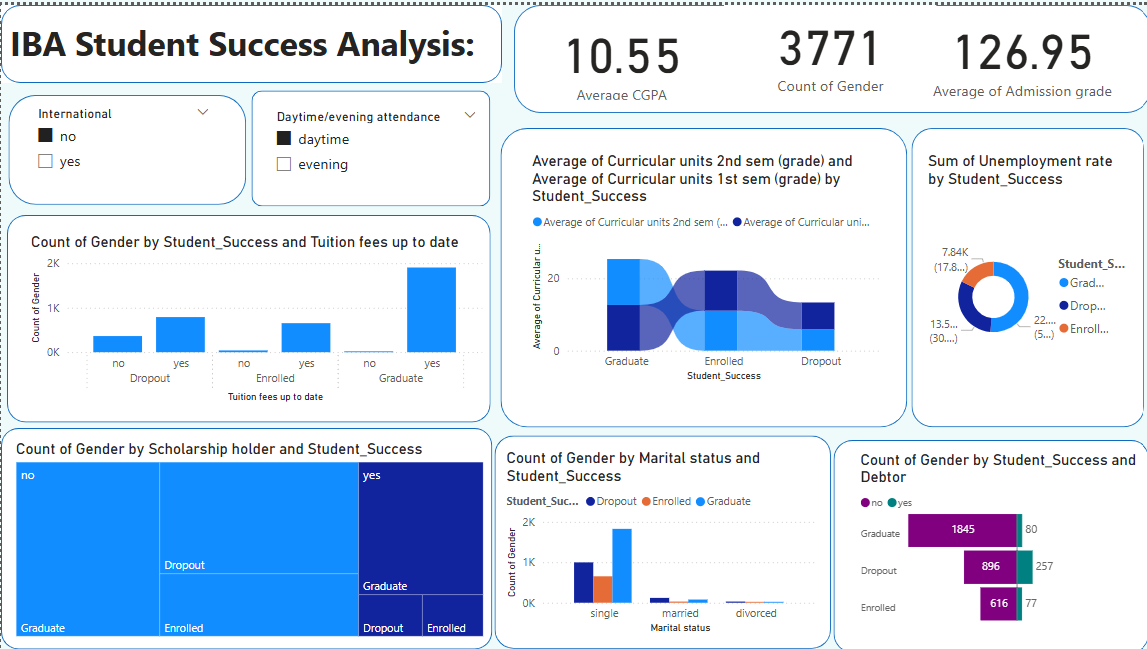

This screenshot's page, from the dashboard's own definition file:
{"tool":"powerbi","page":{"name":"Page 1","canvas":[1280,720],"ordinal":1},"visuals":[{"type":"shape","box":[0,0,556.5,87],"z":0},{"type":"shape","box":[6.4,233.8,537.6,230.6],"z":1000},{"type":"shape","box":[570,0,710,120],"z":2000},{"type":"shape","box":[0,469.2,546.2,246.2],"z":3000},{"type":"shape","box":[8,100,264,122],"z":4000},{"type":"card","fields":{"Values":["CountNonNull(updated_enrollment_data (2).Gender)"]},"box":[804,0,236,102],"z":5000},{"type":"card","fields":{"Values":["updated_enrollment_data (2).Average CGPA"]},"box":[584,10,212,100],"z":6000},{"type":"treemap","fields":{"Group":["updated_enrollment_data (2).Scholarship holder"],"Details":["updated_enrollment_data (2).Student_Success"],"Values":["CountNonNull(updated_enrollment_data (2).Gender)"]},"box":[11.5,482.7,528.8,223.1],"z":7000},{"type":"clusteredColumnChart","fields":{"Category":["updated_enrollment_data (2).Student_Success","updated_enrollment_data (2).Tuition fees up to date"],"Y":["CountNonNull(updated_enrollment_data (2).Gender)"]},"box":[28.8,253.8,511.5,192.3],"z":8000},{"type":"textbox","box":[4.3,10.9,537,60.9],"z":9000},{"type":"card","fields":{"Values":["Avg(updated_enrollment_data (2).Admission grade)"]},"box":[1011.5,3.8,246.2,105.8],"z":10000},{"type":"slicer","fields":{"Values":["updated_enrollment_data (2).International"]},"box":[28.6,106.6,214.7,100.2],"z":11000},{"type":"shape","box":[278.4,95.4,265.6,128.8],"z":12000},{"type":"slicer","fields":{"Values":["updated_enrollment_data (2).Daytime/evening attendance"]},"box":[292.7,109.8,246.5,100.2],"z":13000},{"type":"shape","box":[548.8,478.8,373.8,237],"z":14000},{"type":"shape","box":[925,482.7,351.9,236.5],"z":15000},{"type":"shape","box":[1011.6,136.8,259.3,332.4],"z":16000},{"type":"shape","box":[555.8,136.5,451.9,332.7],"z":17000},{"type":"donutChart","fields":{"Y":["Sum(updated_enrollment_data (2).Unemployment rate)"],"Category":["updated_enrollment_data (2).Student_Success"]},"box":[1025,163.5,232.7,282.7],"z":18000},{"type":"clusteredColumnChart","fields":{"Series":["updated_enrollment_data (2).Student_Success"],"Category":["updated_enrollment_data (2).Marital status"],"Y":["CountNonNull(updated_enrollment_data (2).Gender)"]},"box":[556.7,493.1,354.7,210],"z":19000},{"type":"ribbonChart","fields":{"Category":["updated_enrollment_data (2).Student_Success"],"Y":["Avg(updated_enrollment_data (2).Curricular units 2nd sem (grade))","Avg(updated_enrollment_data (2).Curricular units 1st sem (grade))"]},"box":[584.2,163.2,396.5,259.6],"z":20000},{"type":"TornadoChart1452517688218","fields":{"Category":["updated_enrollment_data (2).Student_Success"],"Values":["CountNonNull(updated_enrollment_data (2).Gender)"],"Series":["updated_enrollment_data (2).Debtor"]},"box":[950,494.2,319.2,213.5],"z":21000}]}

Visuals, with their boxes in screenshot pixels (x1, y1, x2, y2), scaled from the page's 1280x720 canvas onto the 1147x649 screenshot:
shape: (left=0, top=0, right=499, bottom=78)
shape: (left=6, top=211, right=487, bottom=419)
shape: (left=511, top=0, right=1146, bottom=108)
shape: (left=0, top=423, right=489, bottom=645)
shape: (left=7, top=90, right=244, bottom=200)
card - CountNonNull(updated_enrollment_data (2).Gender): (left=720, top=0, right=932, bottom=92)
card - updated_enrollment_data (2).Average CGPA: (left=523, top=9, right=713, bottom=99)
treemap - updated_enrollment_data (2).Scholarship holder x updated_enrollment_data (2).Student_Success: (left=10, top=435, right=484, bottom=636)
clusteredColumnChart - updated_enrollment_data (2).Student_Success x updated_enrollment_data (2).Tuition fees up to date: (left=26, top=229, right=484, bottom=402)
textbox: (left=4, top=10, right=485, bottom=65)
card - Avg(updated_enrollment_data (2).Admission grade): (left=906, top=3, right=1127, bottom=99)
slicer - updated_enrollment_data (2).International: (left=26, top=96, right=218, bottom=186)
shape: (left=249, top=86, right=487, bottom=202)
slicer - updated_enrollment_data (2).Daytime/evening attendance: (left=262, top=99, right=483, bottom=189)
shape: (left=492, top=432, right=827, bottom=645)
shape: (left=829, top=435, right=1144, bottom=648)
shape: (left=906, top=123, right=1139, bottom=423)
shape: (left=498, top=123, right=903, bottom=423)
donutChart - Sum(updated_enrollment_data (2).Unemployment rate) x updated_enrollment_data (2).Student_Success: (left=918, top=147, right=1127, bottom=402)
clusteredColumnChart - updated_enrollment_data (2).Student_Success x updated_enrollment_data (2).Marital status: (left=499, top=444, right=817, bottom=634)
ribbonChart - updated_enrollment_data (2).Student_Success x Avg(updated_enrollment_data (2).Curricular units 2nd sem (grade)): (left=523, top=147, right=879, bottom=381)
TornadoChart1452517688218 - updated_enrollment_data (2).Student_Success x CountNonNull(updated_enrollment_data (2).Gender): (left=851, top=445, right=1137, bottom=638)
